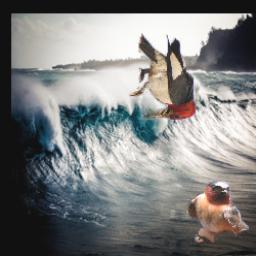Swallow: (189, 181, 250, 243)
Woodpecker: (130, 33, 197, 120)
